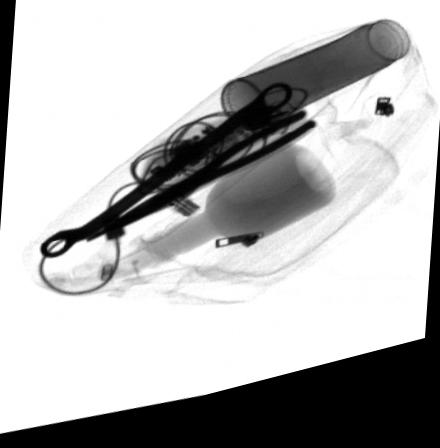Pliers: (85, 122, 320, 245)
Wrench: (39, 95, 291, 261)
